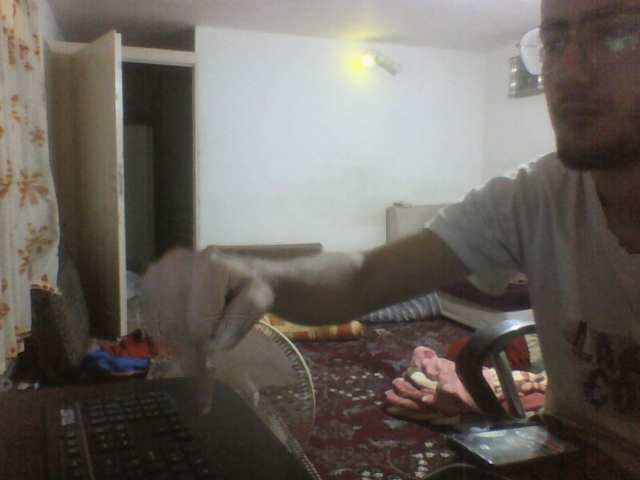fuck: (136, 246, 276, 412)
